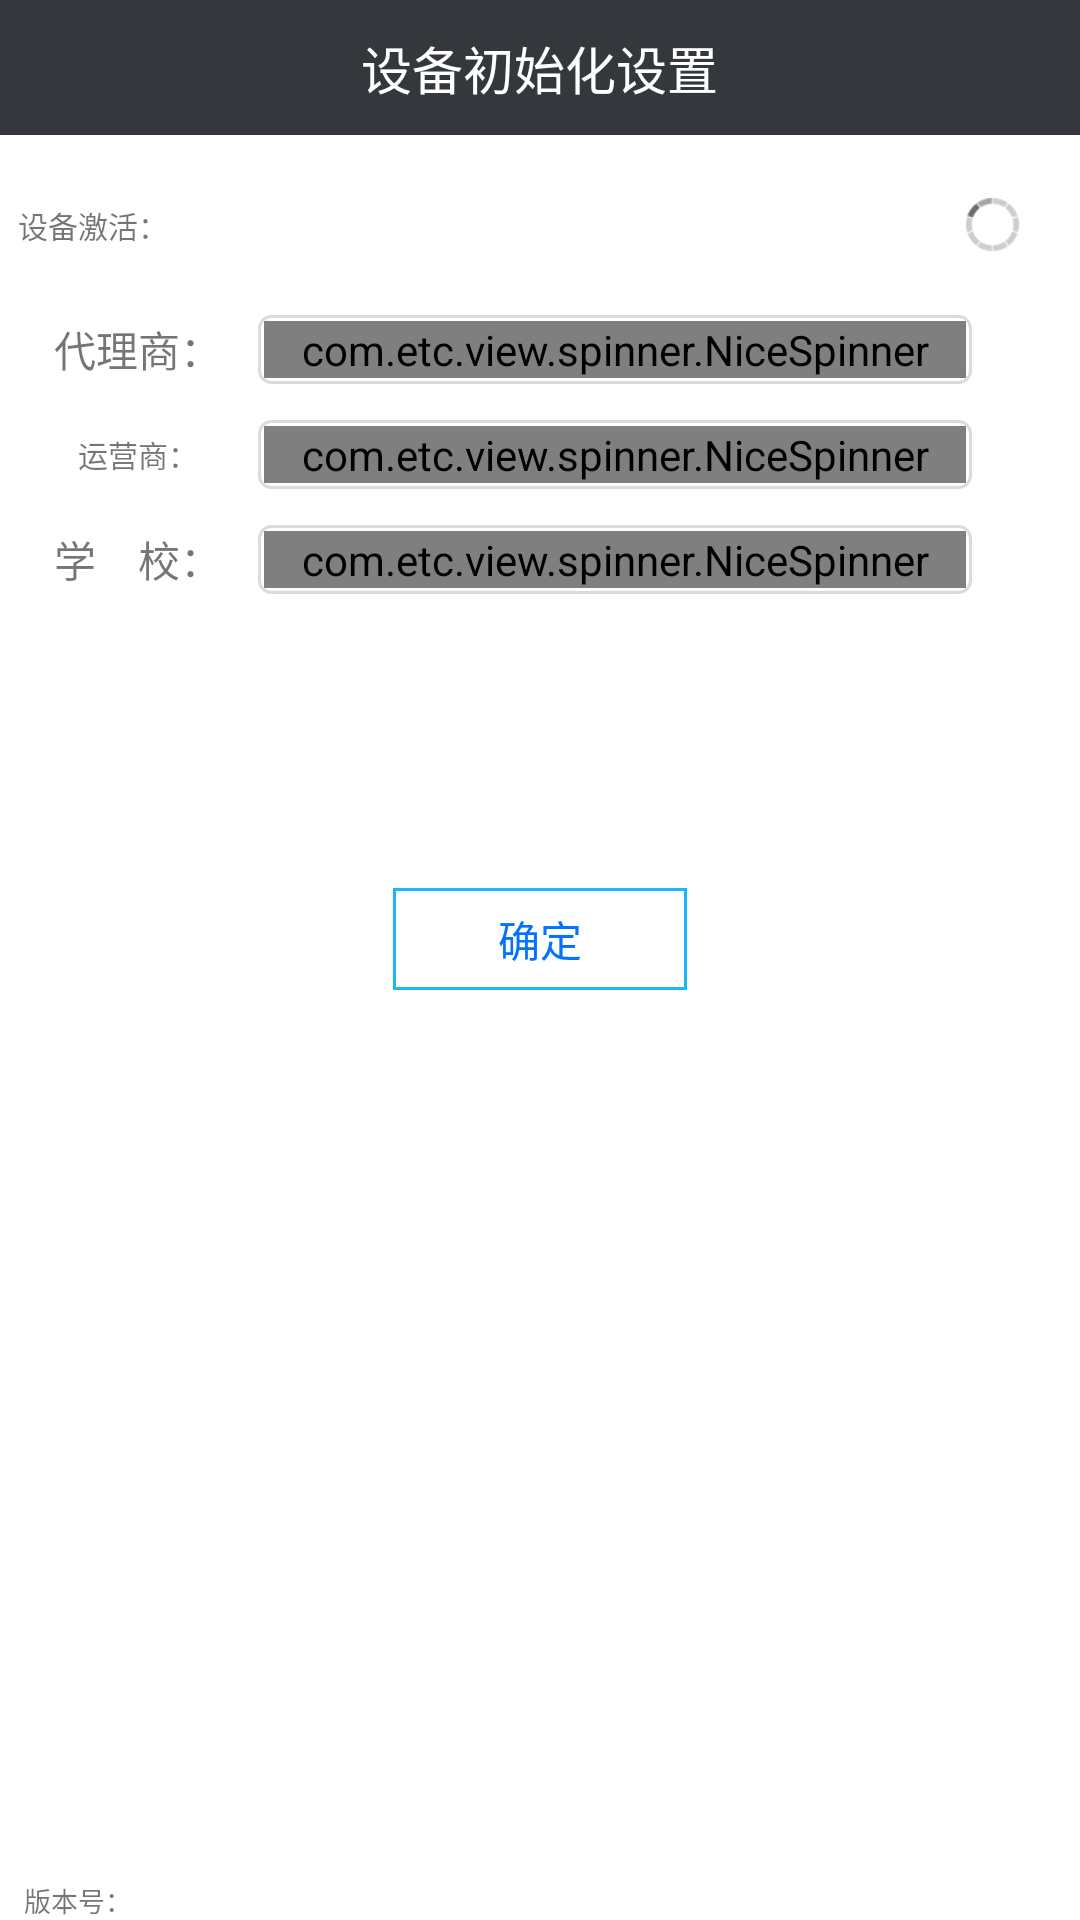

Locate icon controls on the screen. Image size 1080×1920, boxes as [left=x1, top=y1, right=x2, bottom=y2].
loading dialog anim: [left=966, top=198, right=1019, bottom=251]
